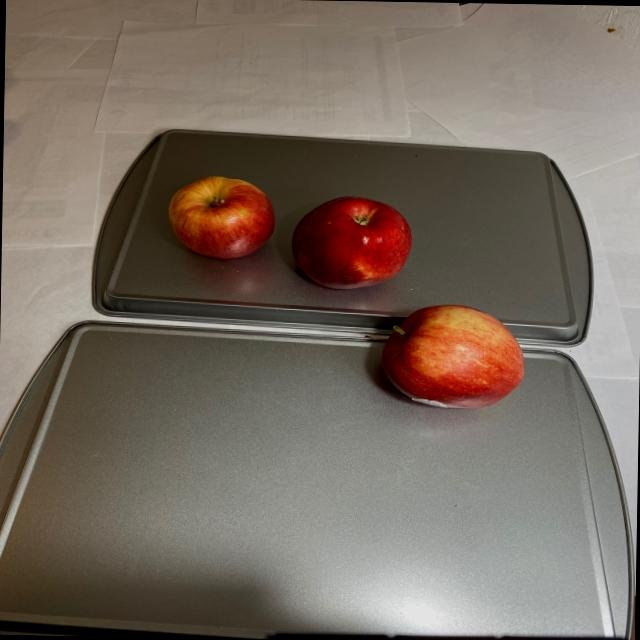apple: (167, 172, 528, 412)
